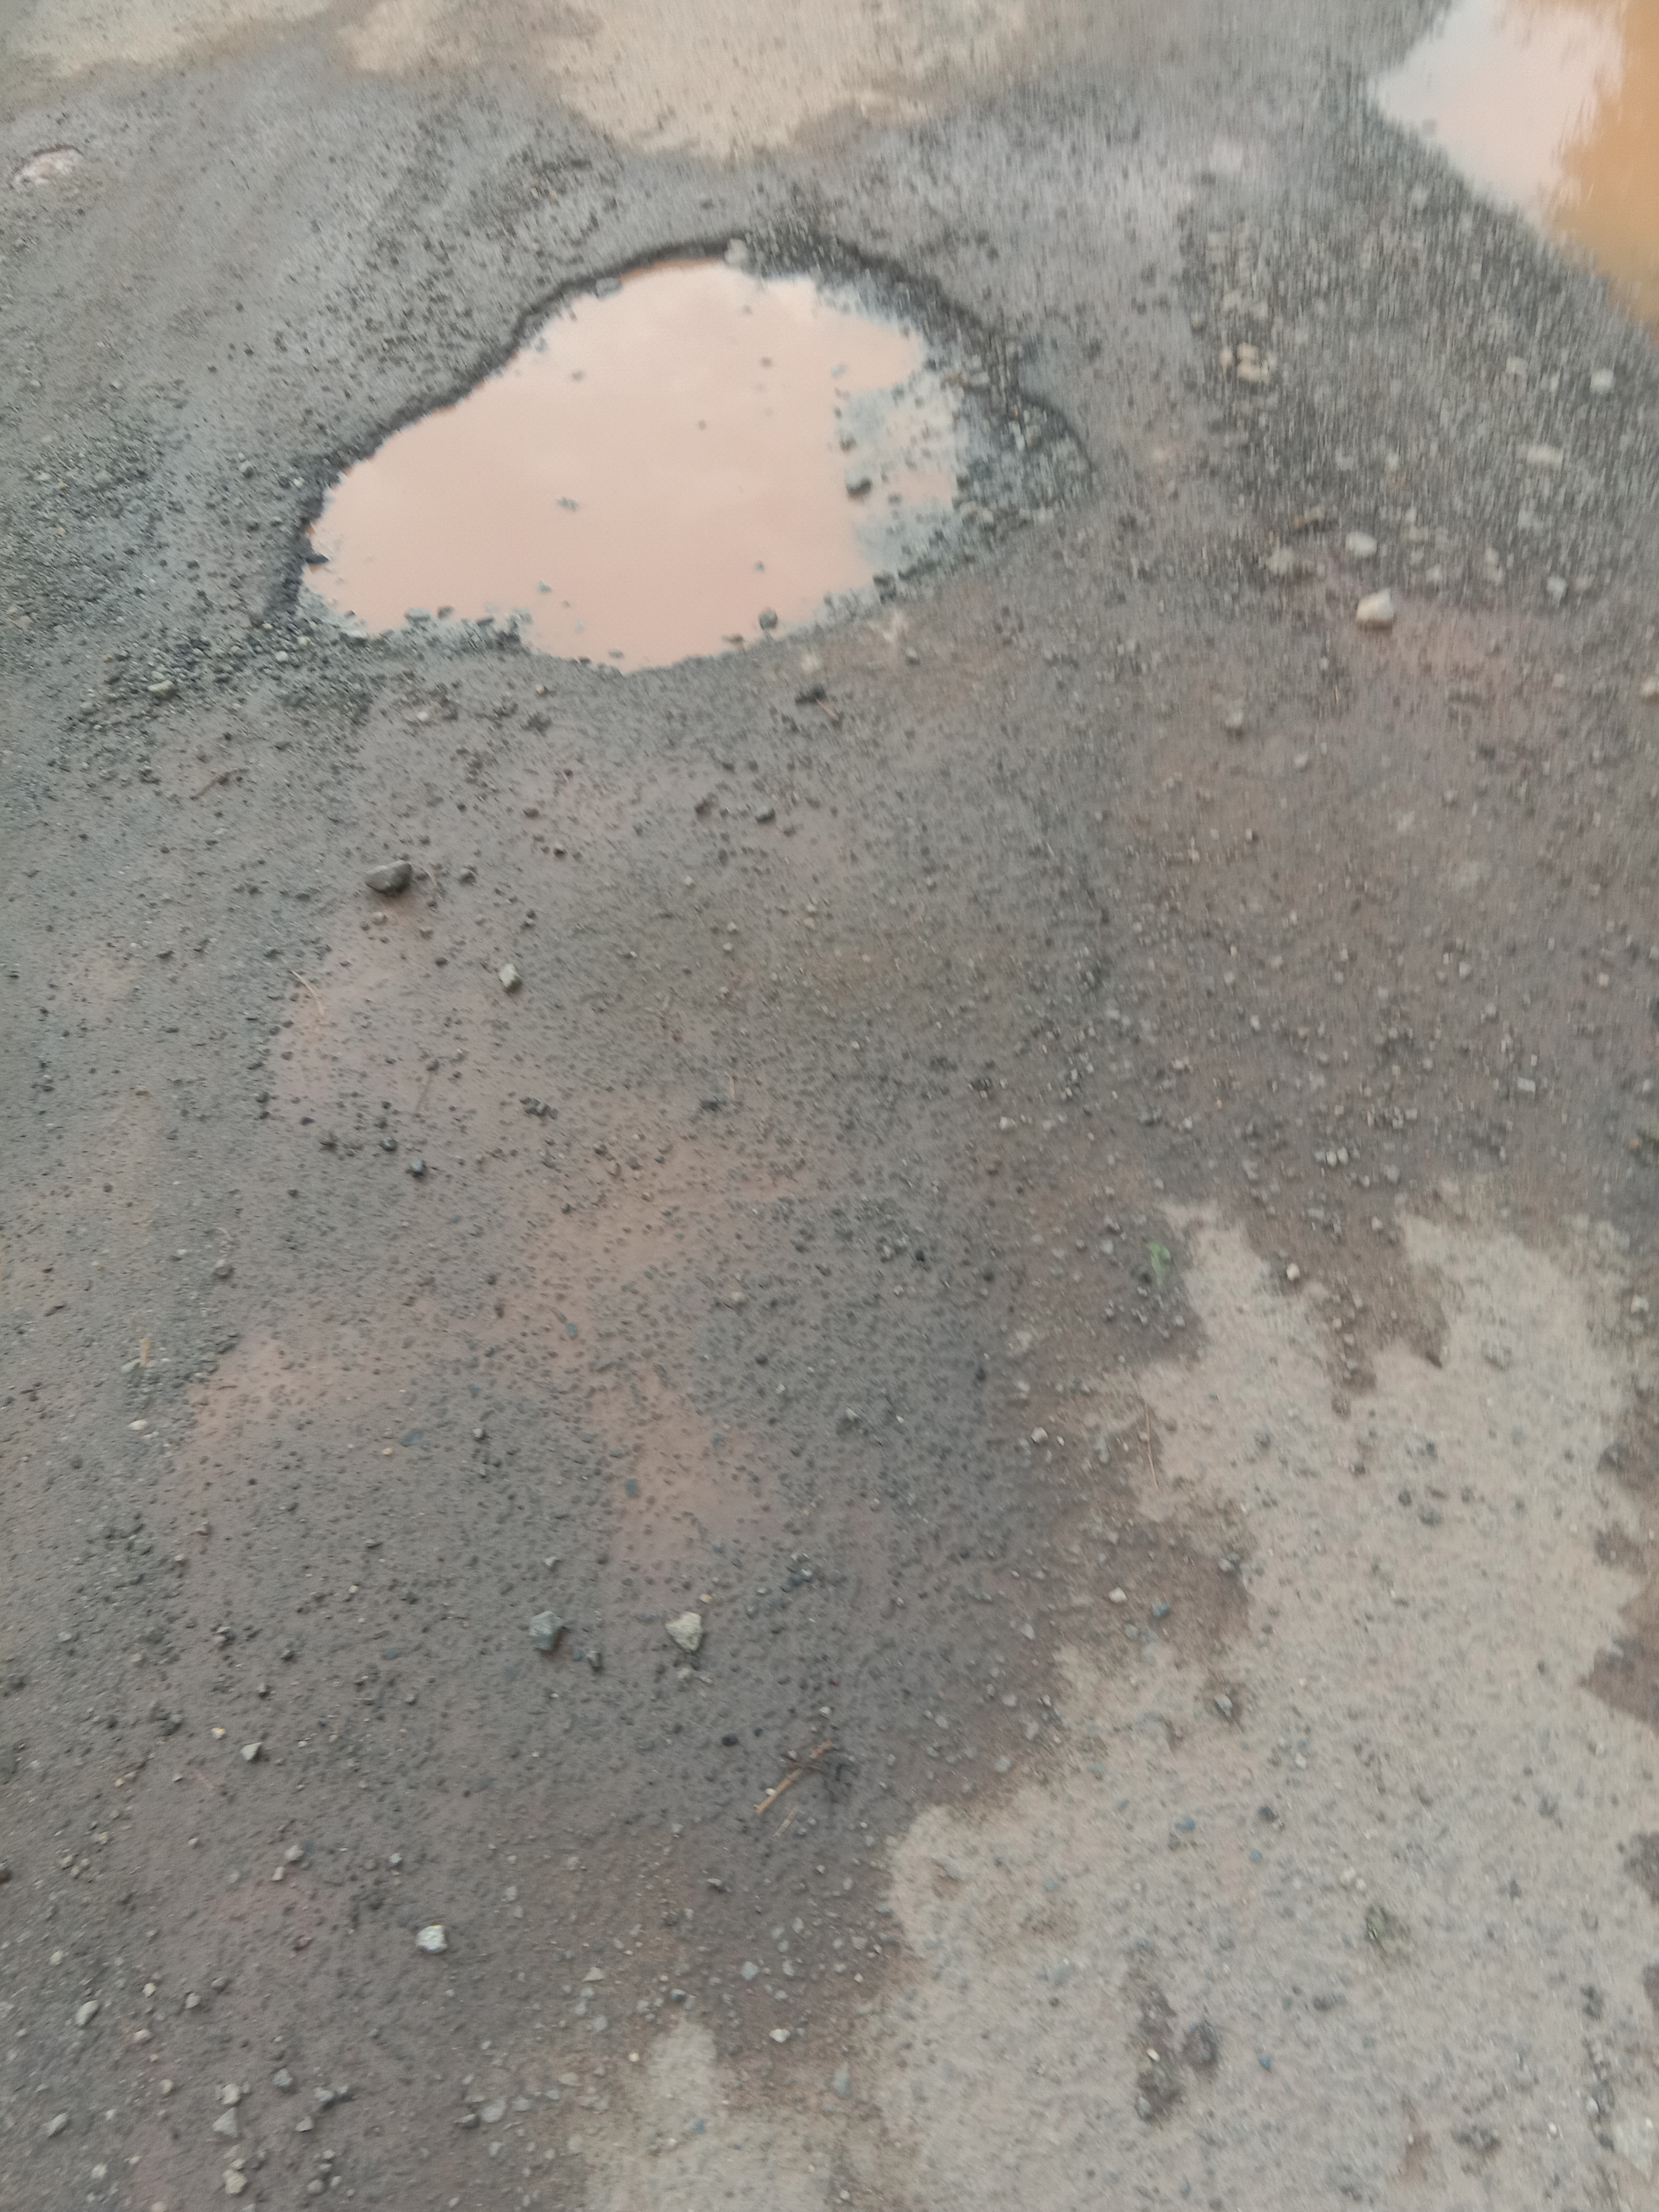potholes: (267, 218, 1126, 676), (1349, 12, 1659, 357)
